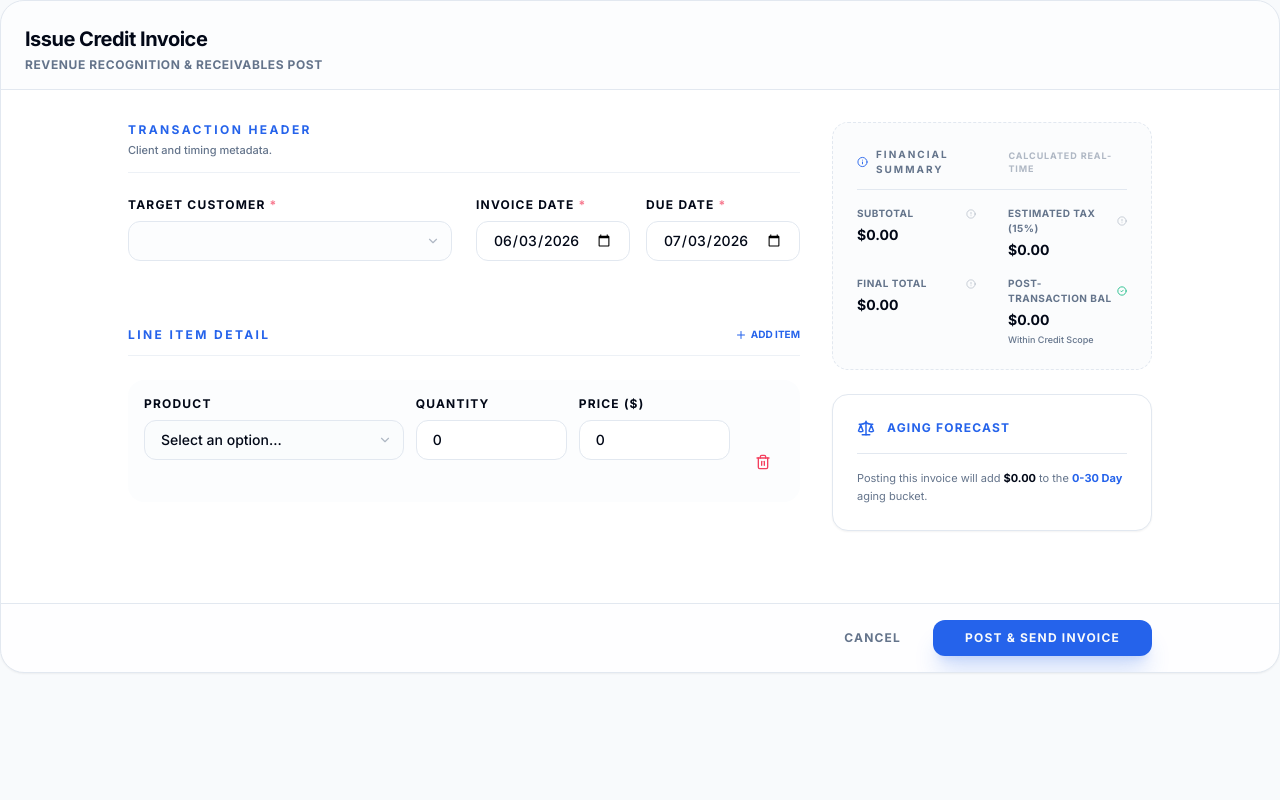
Scenario: CreditInvoiceForm › blocks posting when the invoice breaches credit limit
The image size is (1280, 800).
Select "prod-1" in the dropdown labelled "Product". click: (274, 440)
box: [144, 420, 404, 460]
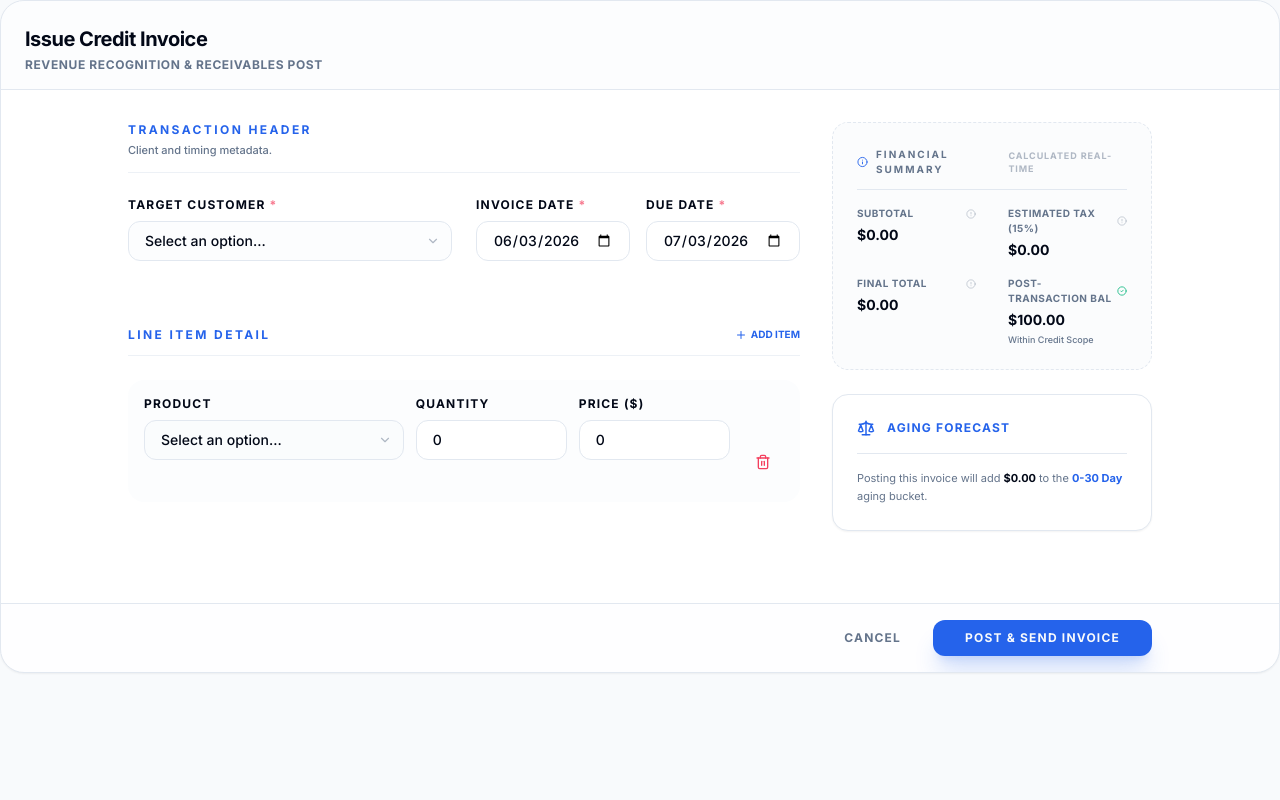
Replace the text in the number field labelled "Quantity" with "1000". click: (491, 440)
box: [416, 420, 567, 460]
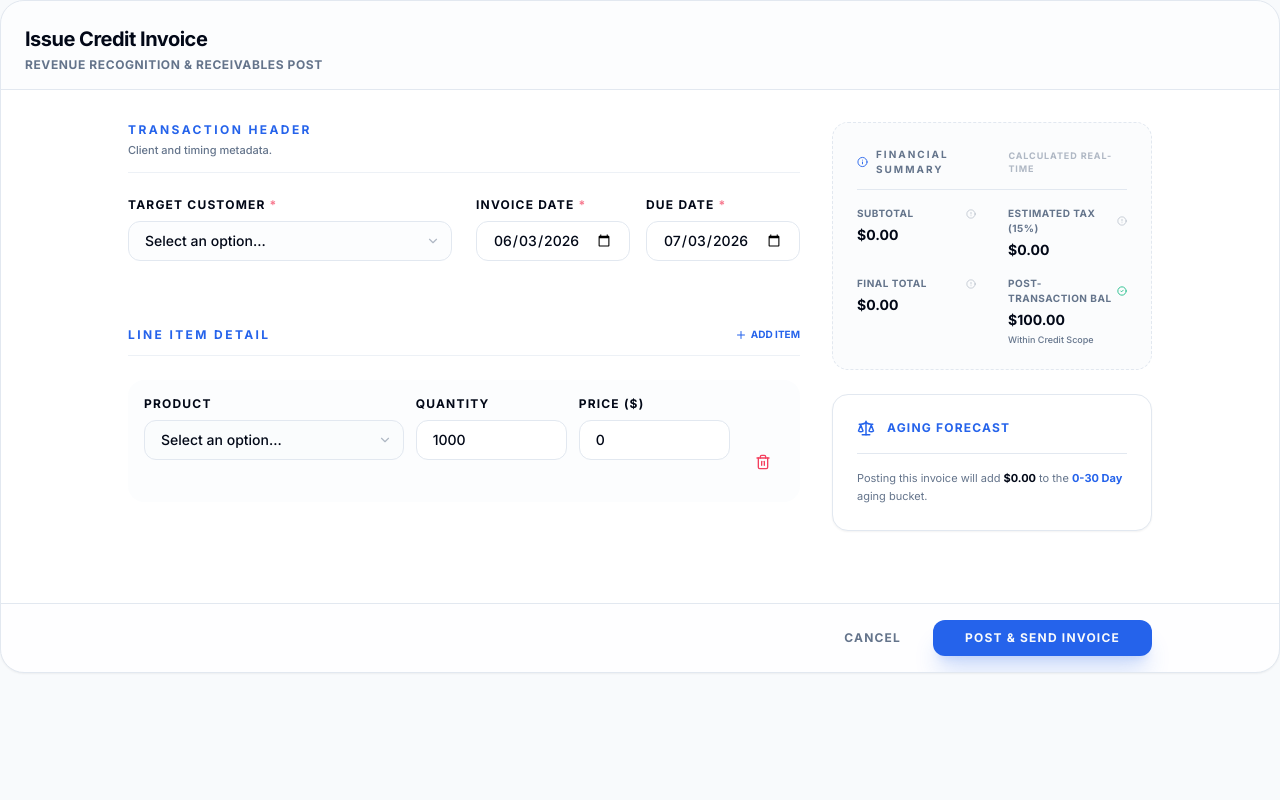
Replace the text in the number field labelled "Price ($)" with "2". click: (654, 440)
box: [579, 420, 730, 460]
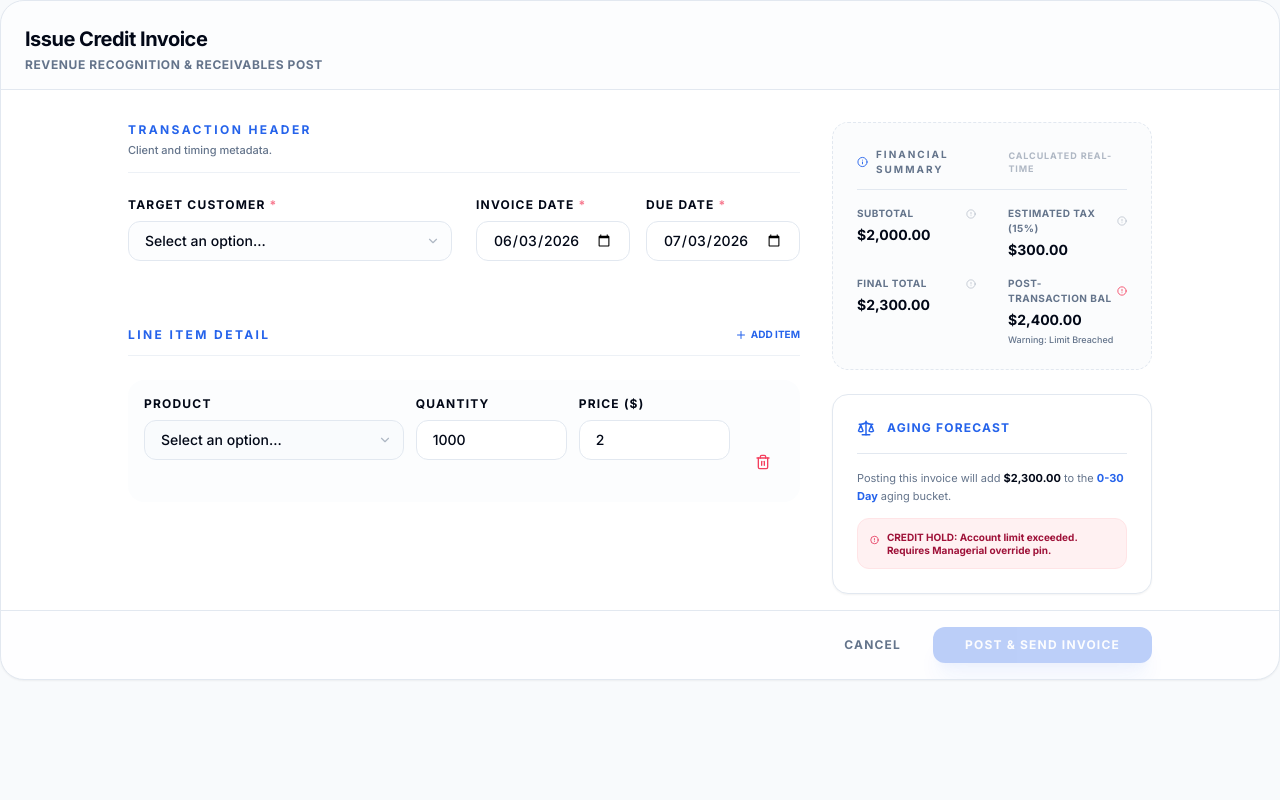
Check: the text "CREDIT HOLD" is shown, box [887, 531, 1077, 556]
Check: the button "Post & Send Invoice" is disabled, box [933, 627, 1152, 663]
